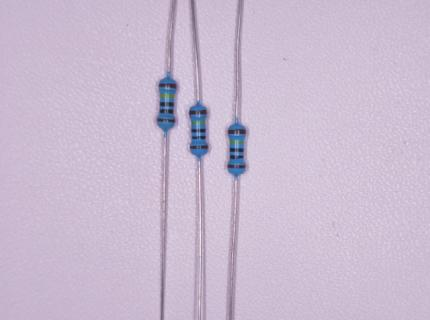Black band: (160, 102, 173, 107), (192, 129, 206, 133), (160, 109, 173, 113), (192, 135, 205, 139), (230, 156, 245, 159), (230, 149, 244, 152)
Brown band: (228, 129, 247, 135), (159, 83, 176, 88), (228, 164, 246, 168), (157, 118, 174, 122), (190, 110, 207, 114), (190, 146, 208, 149)
Yellow band: (230, 140, 244, 145), (191, 120, 205, 124), (160, 94, 174, 98)
